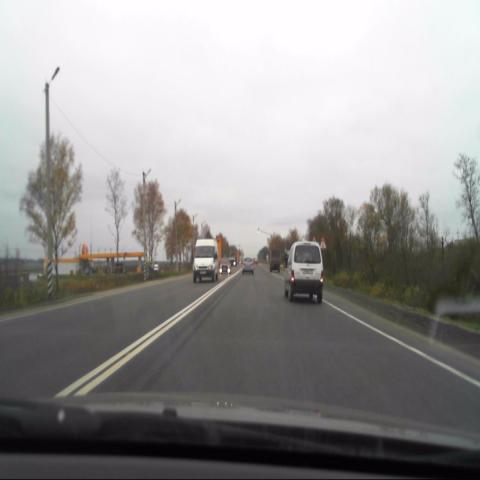1_8: (318, 233, 328, 250)
